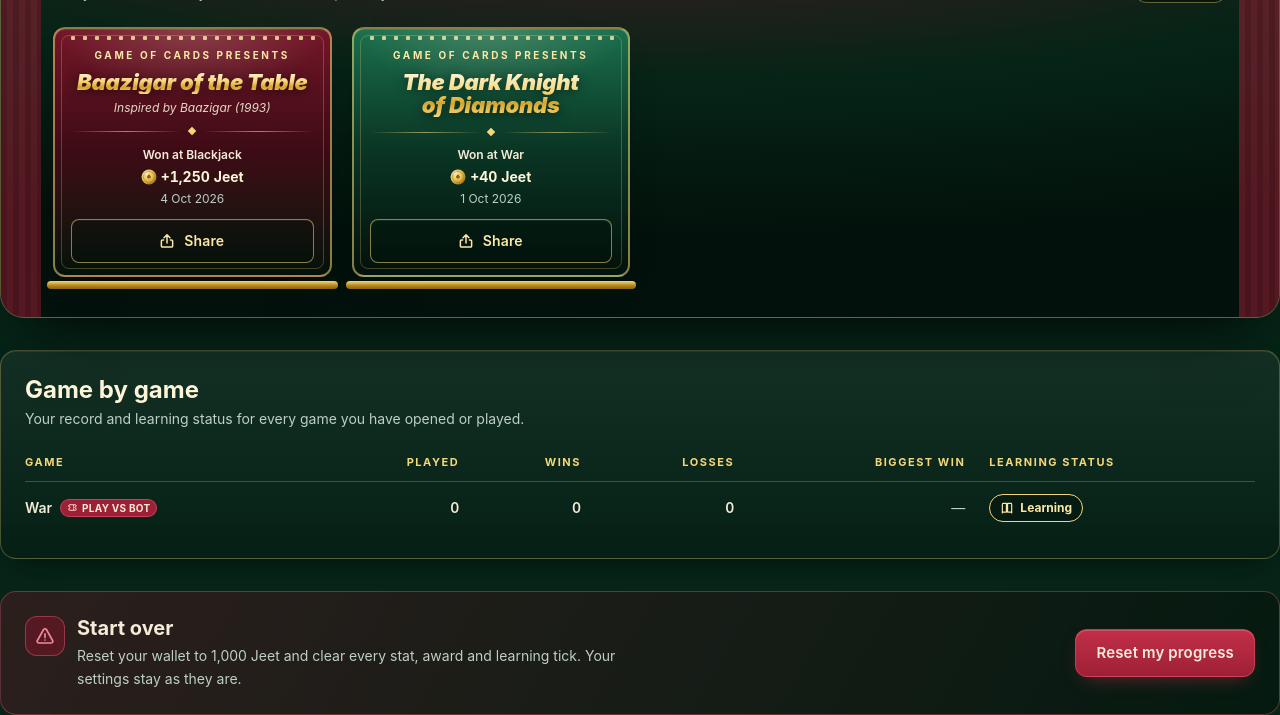
Scenario: StatsDashboard › reset asks for confirmation, then resets wallet, stats and progress
(page scrolled)
Cancelling keeps everything.
Click the button with test id "reset-progress": (1165, 653) [1076,629,1255,677]
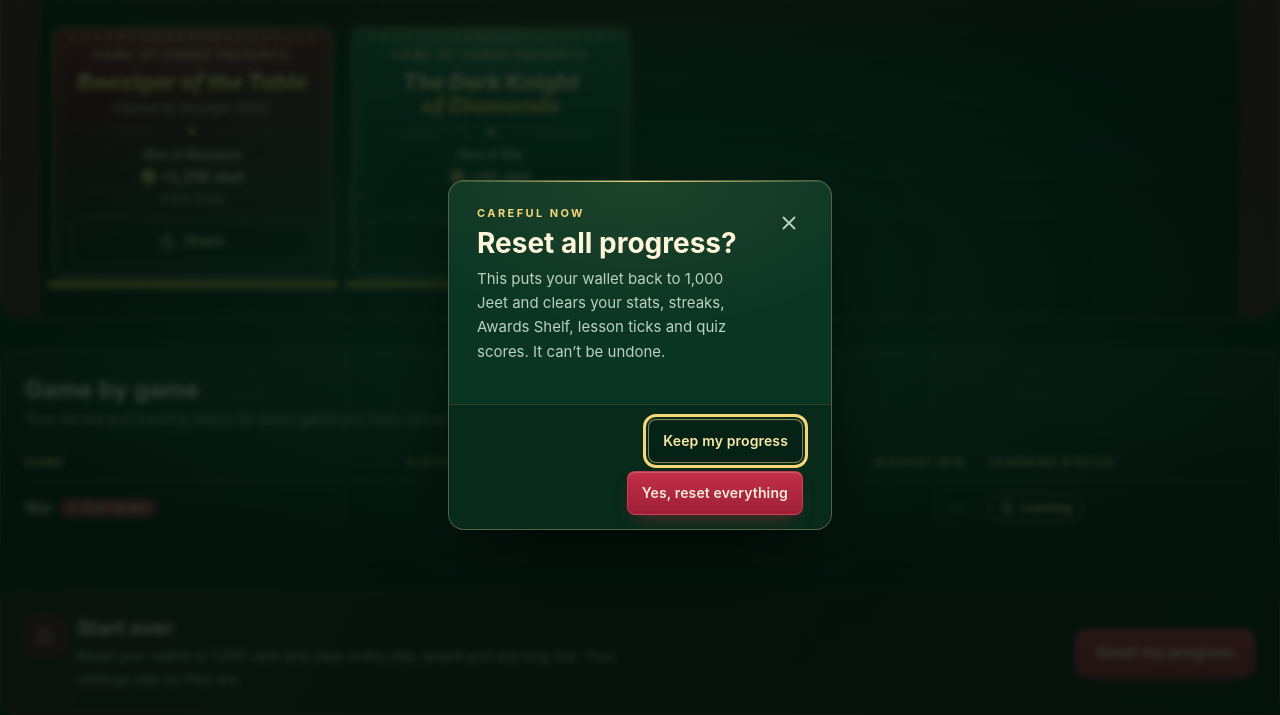
Click the button "Keep my progress": (726, 441) [648,419,803,463]
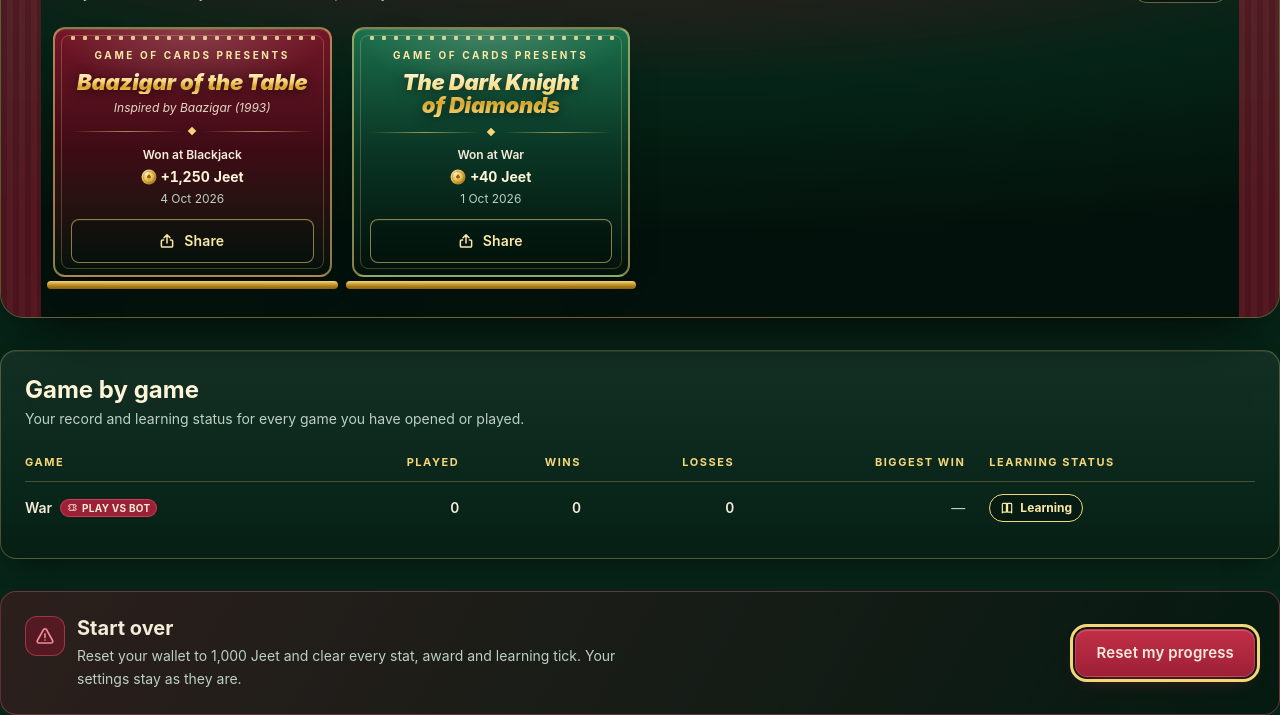
Expected: the dialog is gone
Confirming resets the three learner stores.
Click the button with test id "reset-progress": (1165, 653) [1076,629,1255,677]
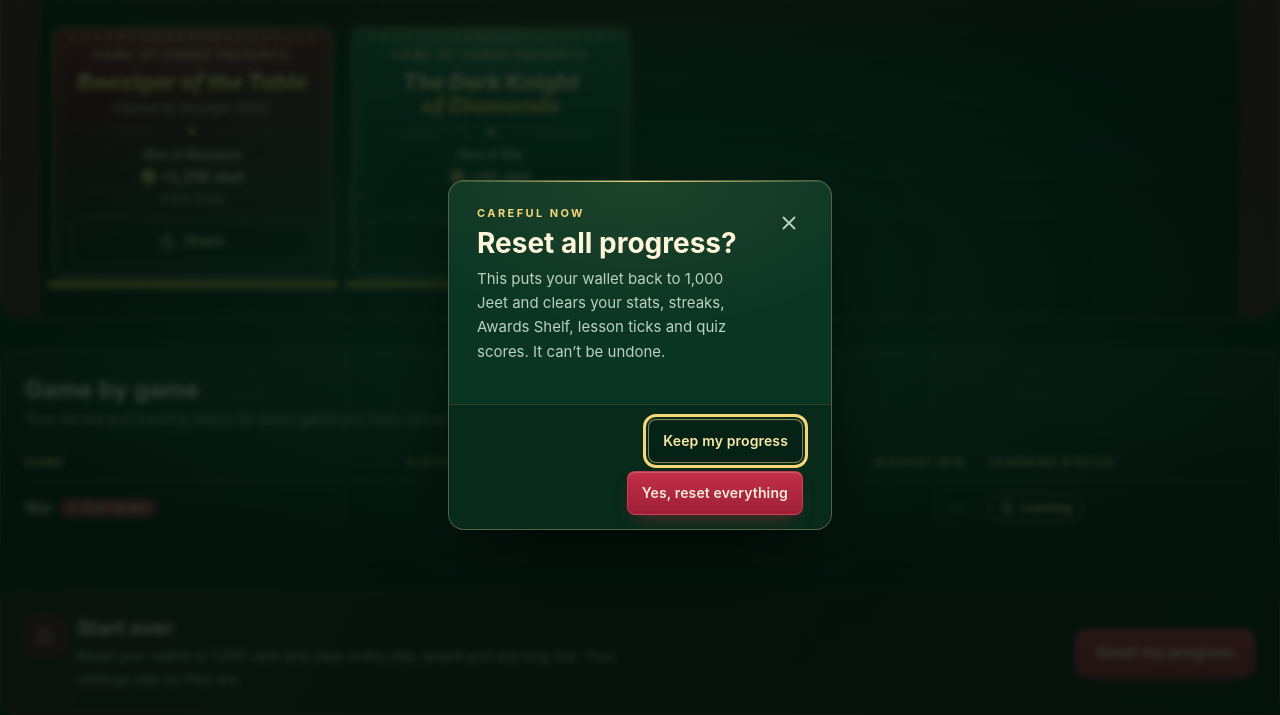
Click the button with test id "reset-confirm": (715, 493) [627,471,803,515]
(page scrolled)
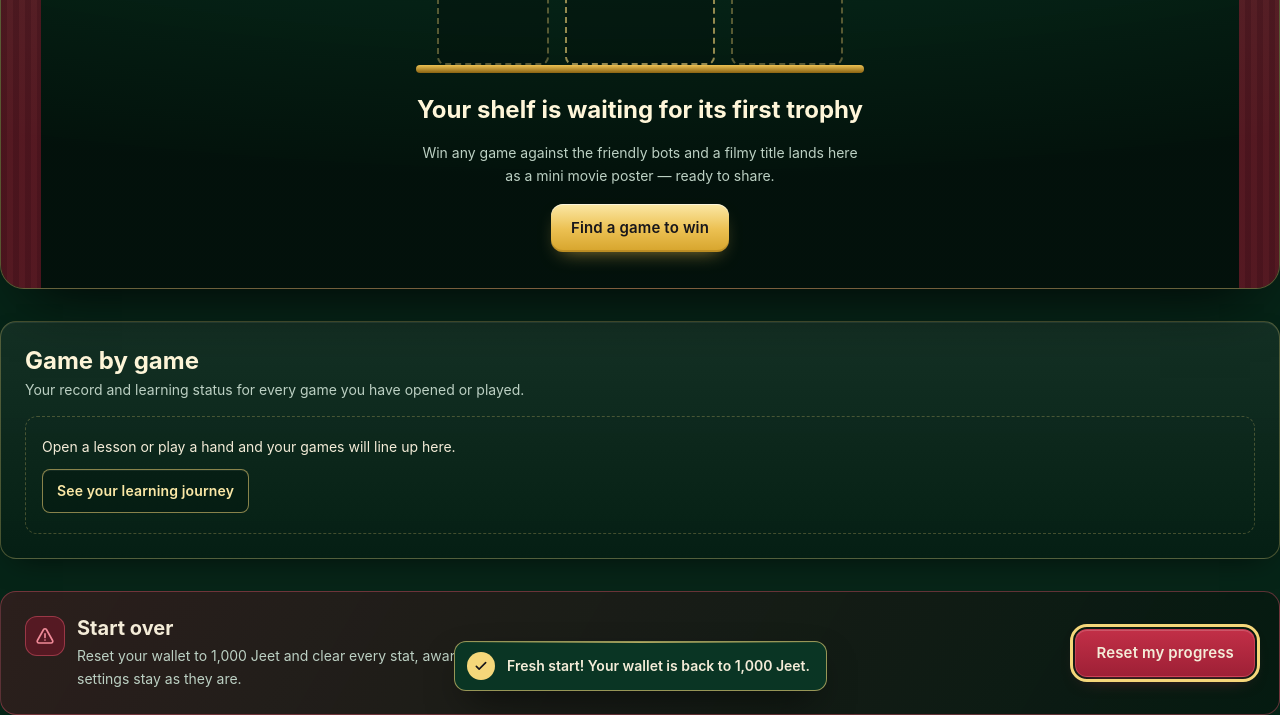
Expected: the dialog is gone
Expected: the text "Fresh start! Your wallet is back to 1,000 Jeet." is shown, [506,652,810,680]
